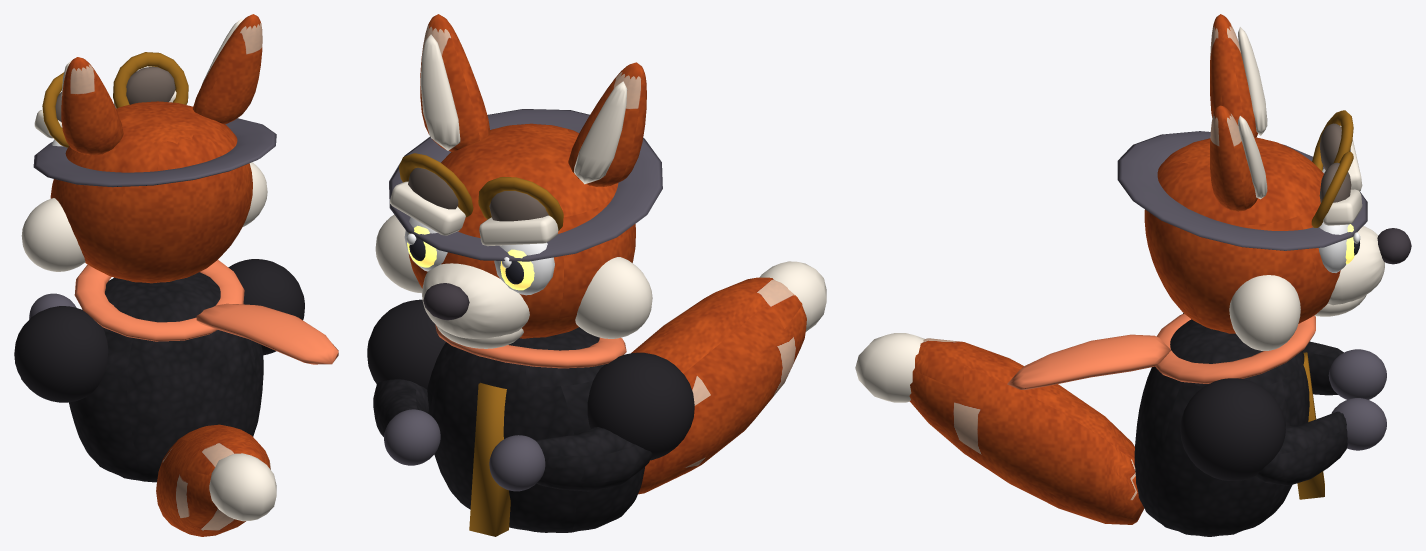
The model's file is char_blaze.glb.
The picture shows the model from 3 angles, left to right: view 1: azimuth 30°, elevation 25°; view 2: azimuth 150°, elevation 25°; view 3: azimuth 270°, elevation 25°; orthographic projection. The views are drawn at different scales.
Parts seen in each view (by area): view 1: Torso; view 2: Torso; view 3: Torso.
Part boxes in pixels (left/top/right/bottom): Torso: left=14, top=14, right=338, bottom=536; Torso: left=367, top=14, right=826, bottom=536; Torso: left=855, top=14, right=1411, bottom=536.
Size of the model in its own units: 1.07 by 1.62 by 1.74.
11 materials, 3 textured.
